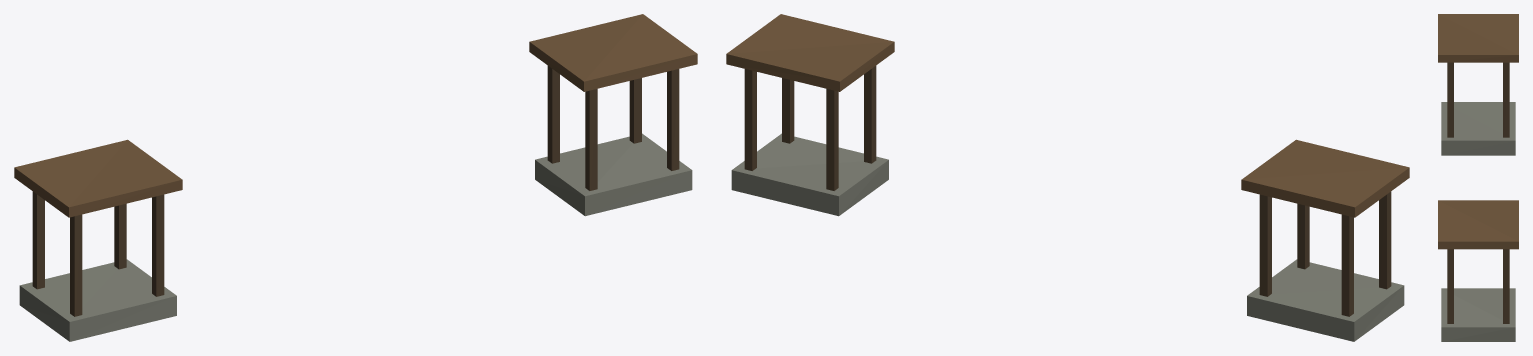
Rendered from ECO-04-3.glb.
3 renders of one model, left to right at view 1: azimuth 30°, elevation 25°; view 2: azimuth 150°, elevation 25°; view 3: azimuth 270°, elevation 25°, orthographic. The views are drawn at different scales.
Visible parts, largest first — view 1: city-details/ECO-04-3; view 2: city-details/ECO-04-3; view 3: city-details/ECO-04-3.
Part boxes in pixels (x1,y1,x2,y2): city-details/ECO-04-3: [14, 14, 697, 341]; city-details/ECO-04-3: [726, 14, 1409, 341]; city-details/ECO-04-3: [1438, 14, 1518, 341].
Bounding box in the file's own units: 8.91 × 1.87 × 1.34.
